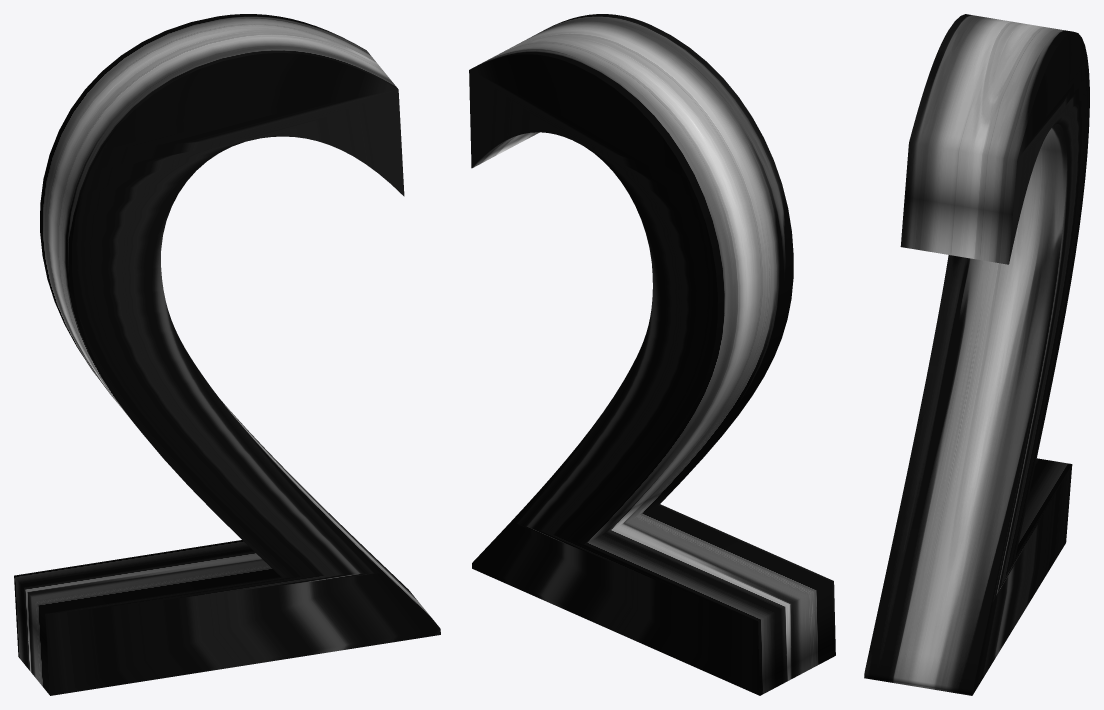
Rendered from number2.obj.
The picture shows the model from 3 angles, left to right: view 1: azimuth 30°, elevation 25°; view 2: azimuth 150°, elevation 25°; view 3: azimuth 270°, elevation 25°; orthographic projection. The views are drawn at different scales.
Parts seen in each view (by area): view 1: Text_Text.001; view 2: Text_Text.001; view 3: Text_Text.001.
Boxes of the visible parts, x1,y1,x2,y2 form: Text_Text.001: (14,14,440,695); Text_Text.001: (469,14,835,695); Text_Text.001: (864,14,1089,695).
Bounding box in the file's own units: 0.4496 × 0.7055 × 0.2427.
